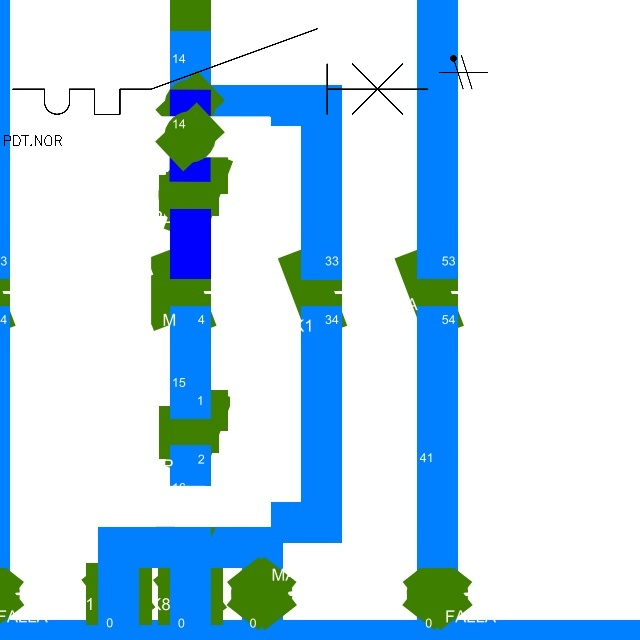interruptor_termomagnetico: (2, 18, 439, 125)
